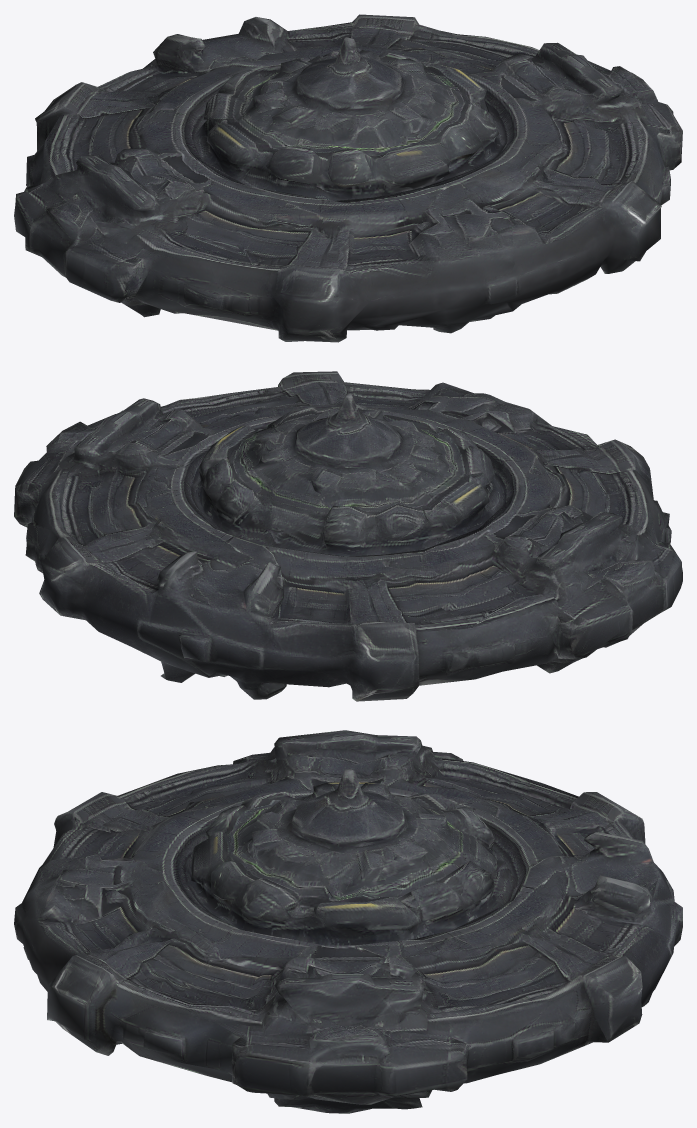
3 views of the same model, one above another, from view 1: azimuth 30°, elevation 25°; view 2: azimuth 150°, elevation 25°; view 3: azimuth 270°, elevation 25° (orthographic). The views are drawn at different scales.
Parts seen in each view (by area): view 1: Mesh_0; view 2: Mesh_0; view 3: Mesh_0.
Part boxes in pixels (<box>): Mesh_0: <box>14,14,682,342</box>; Mesh_0: <box>14,371,682,701</box>; Mesh_0: <box>14,730,682,1113</box>.
Size of the model in its own units: 1.92 by 0.8657 by 1.71.
Materials: 1 (1 with a texture image).
